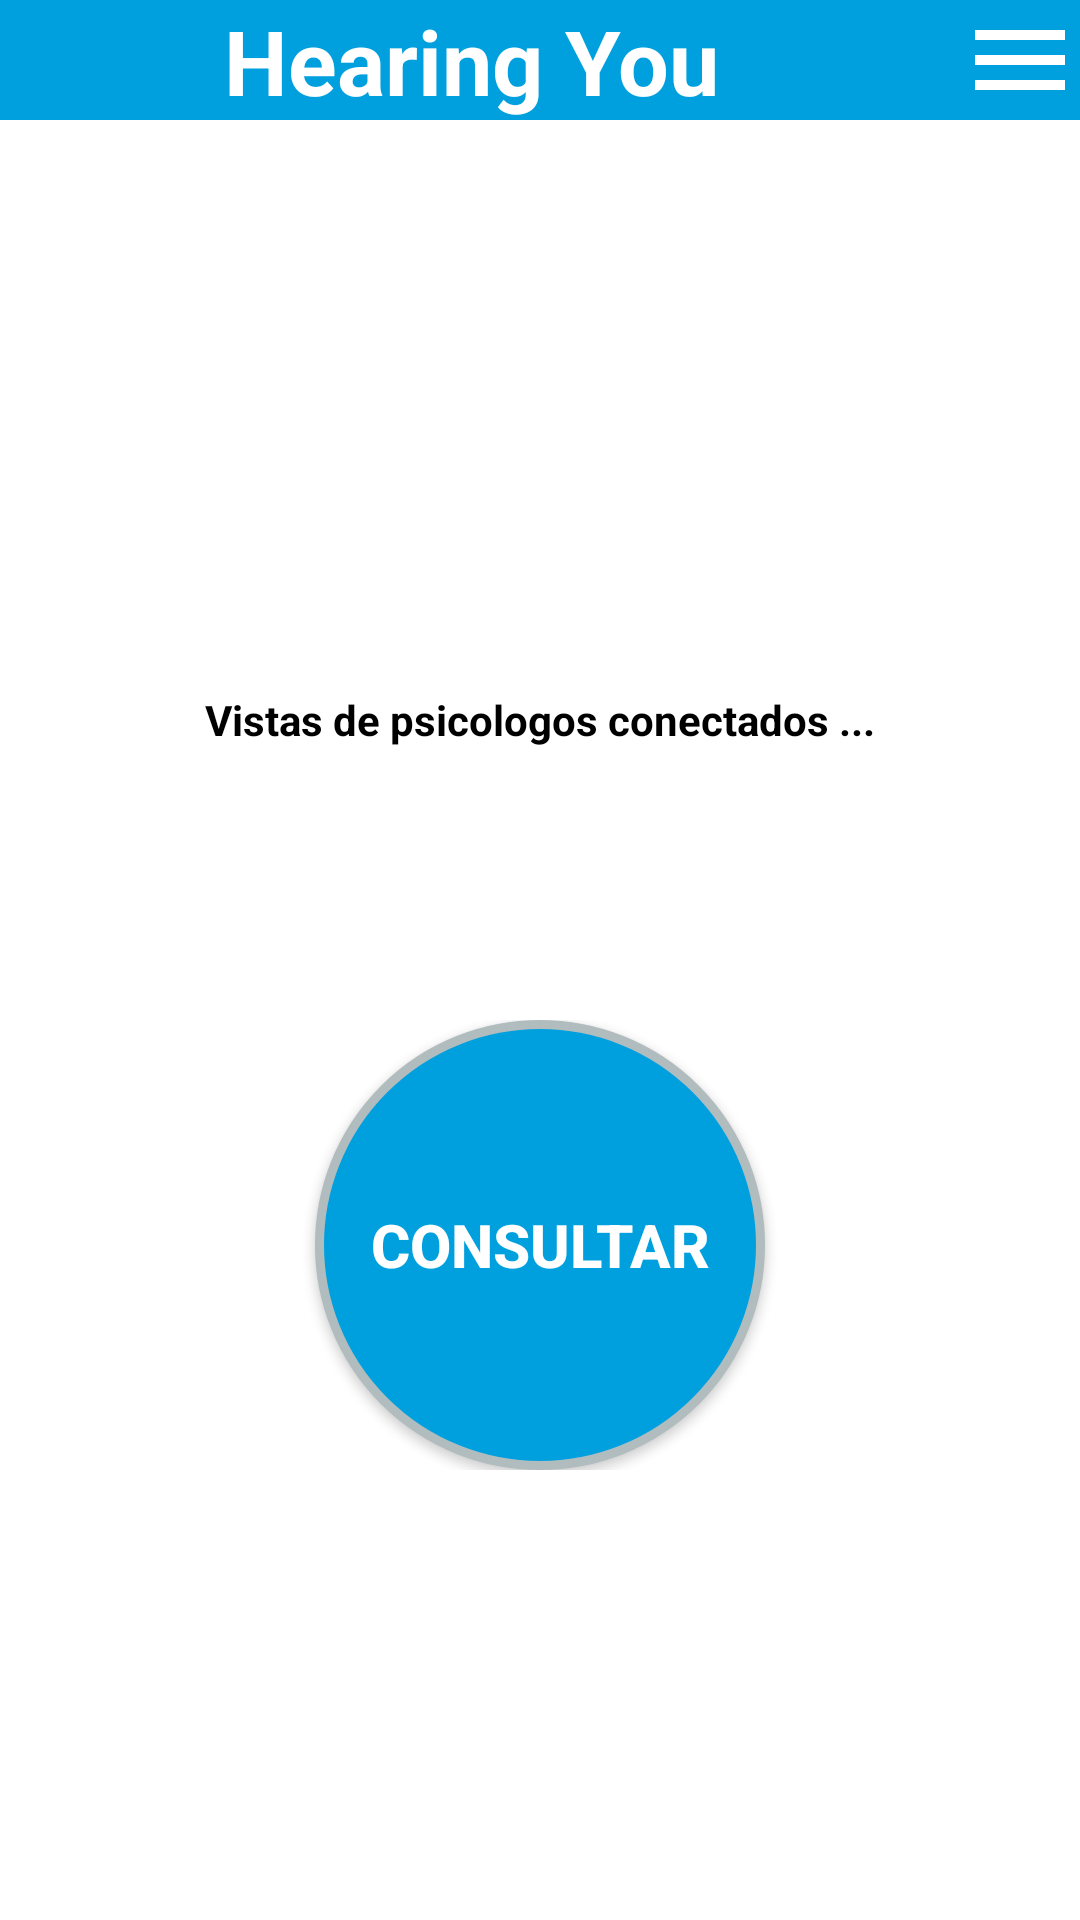

Locate icon controls on the screen. Image size 1080px x 1920px, boxes as {"left": x1, "top": y1, "right": x2, "bottom": y2}.
menu: {"left": 975, "top": 30, "right": 1065, "bottom": 90}
